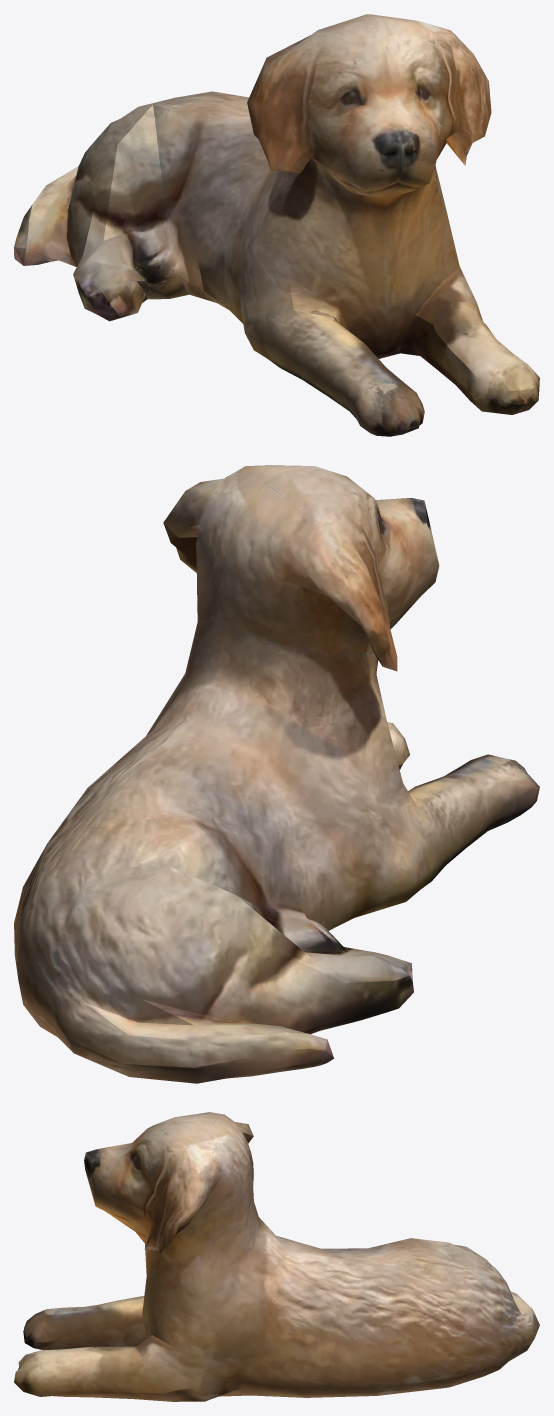
Rendered from pet.glb.
3 views of the same model, one above another, from view 1: azimuth 30°, elevation 25°; view 2: azimuth 150°, elevation 25°; view 3: azimuth 270°, elevation 25° (orthographic). The views are drawn at different scales.
Visible parts, largest first — view 1: groupdelete3; view 2: groupdelete3; view 3: groupdelete3.
Part boxes in pixels (left/top/right/bottom): groupdelete3: left=14, top=14, right=539, bottom=436; groupdelete3: left=14, top=465, right=539, bottom=1083; groupdelete3: left=14, top=1112, right=539, bottom=1401.
Size of the model in its own units: 0.2682 by 0.2814 by 0.5072.
Materials: 1 (1 with a texture image).
